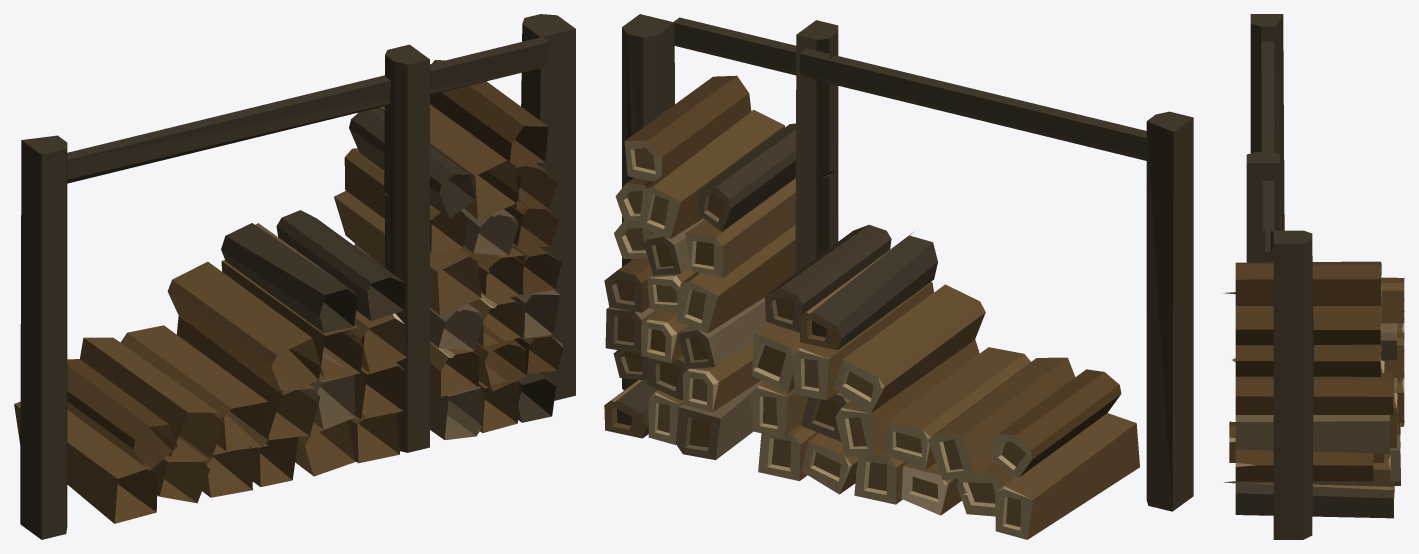
The model's file is EA03_Items_House_Firewood_01a.glb.
3 renders of one model, left to right at view 1: azimuth 30°, elevation 25°; view 2: azimuth 150°, elevation 25°; view 3: azimuth 270°, elevation 25°, orthographic. The views are drawn at different scales.
Parts seen in each view (by area): view 1: EA03_Items_House_Firewood_01a; view 2: EA03_Items_House_Firewood_01a; view 3: EA03_Items_House_Firewood_01a.
Part boxes in pixels (x1,y1,x2,y2): EA03_Items_House_Firewood_01a: (14, 14, 575, 539); EA03_Items_House_Firewood_01a: (604, 14, 1193, 539); EA03_Items_House_Firewood_01a: (1223, 14, 1404, 539).
Size of the model in its own units: 3.5 by 2.36 by 1.25.
Materials: 1 (1 with a texture image).
